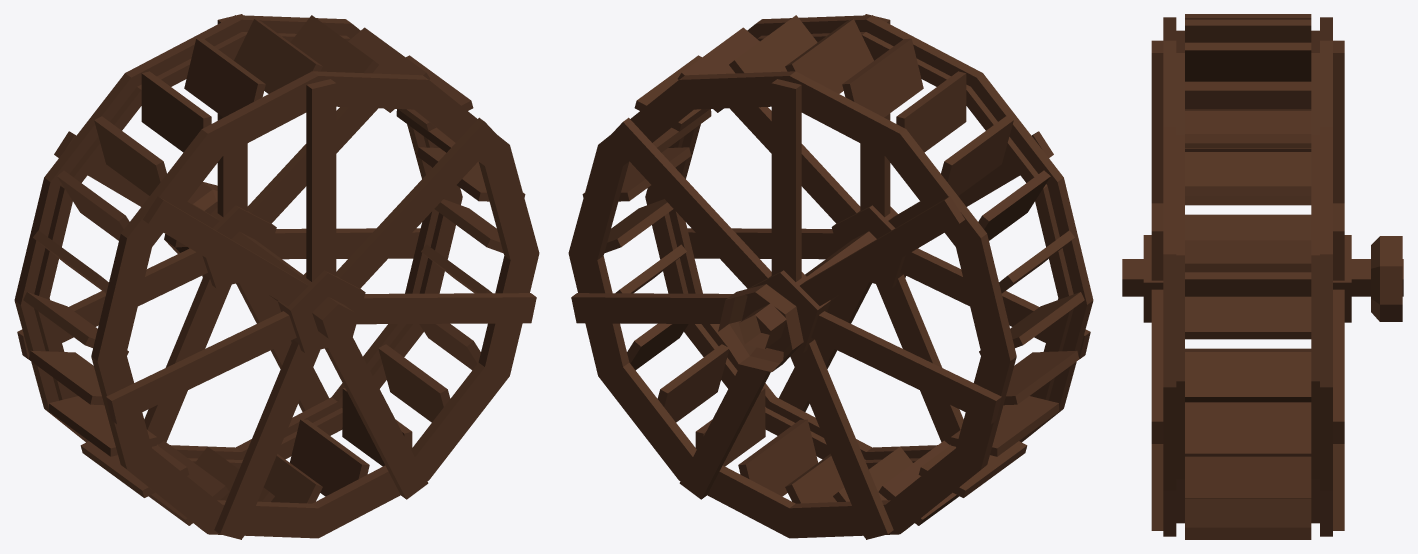
The model's file is LPWarPack_WaterWheel.fbx.
The picture shows the model from 3 angles, left to right: view 1: azimuth 30°, elevation 25°; view 2: azimuth 150°, elevation 25°; view 3: azimuth 270°, elevation 25°; orthographic projection. The views are drawn at different scales.
Parts seen in each view (by area): view 1: WaterWheel; view 2: WaterWheel; view 3: WaterWheel.
Part boxes in pixels (bbox=[...]): WaterWheel: bbox=[14, 14, 539, 539]; WaterWheel: bbox=[568, 14, 1093, 539]; WaterWheel: bbox=[1122, 14, 1403, 539].
Bounding box in the file's own units: 620 × 620 × 332.
